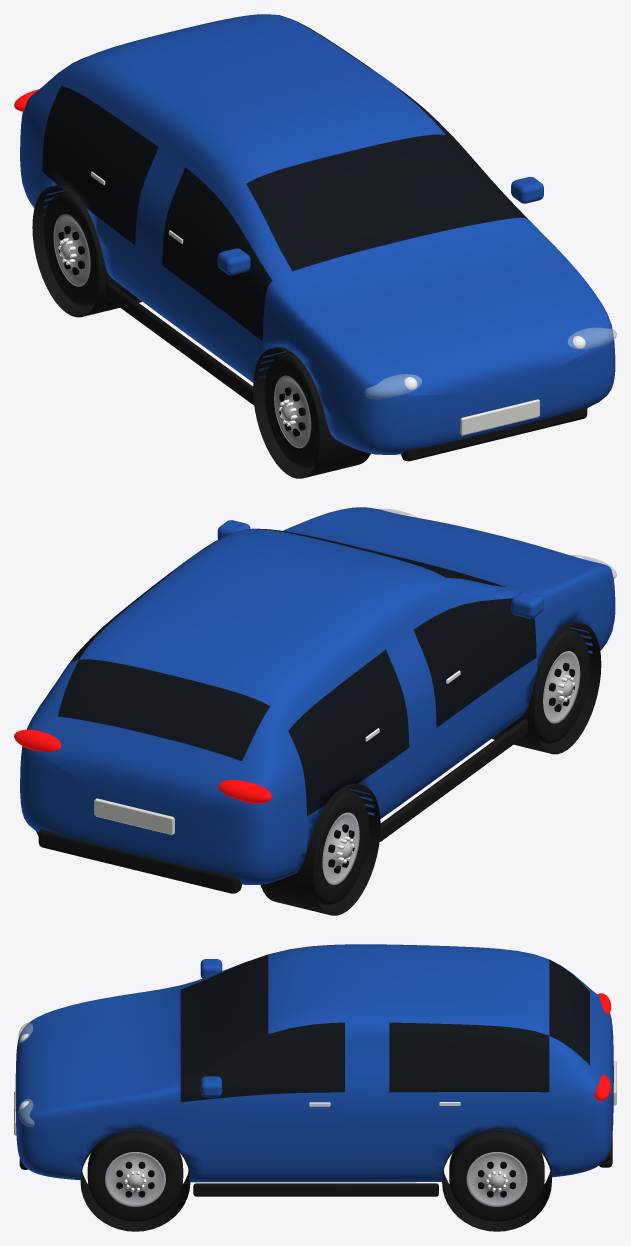
The model's file is car.glb.
3 views of the same model, one above another, from view 1: azimuth 30°, elevation 25°; view 2: azimuth 150°, elevation 25°; view 3: azimuth 270°, elevation 25° (orthographic). The views are drawn at different scales.
Parts seen in each view (by area): view 1: body, liner-10.8, liner-13.3, sill-1, w-1r_tire0, w-1f_tire0, lowgrille, w-1f_rim, w-1r_rim, plate_f, hl-1, hl1 (+2 smaller); view 2: body, liner-13.3, rear_diff, liner-10.8, sill-1, w-1r_tire0, w-1f_tire0, w-1r_rim, w-1f_rim, plate_r, tl-1, tl1 (+1 smaller); view 3: body, w1f_tire0, w1r_tire0, sill1, w1f_rim, w1r_rim, liner13.3, liner10.8, mirror1.
Part boxes in pixels (x1,y1,x2,y2): body: (20,14,615,454); liner-10.8: (253,347,370,478); liner-13.3: (32,185,141,317); sill-1: (105,282,253,405); w-1r_tire0: (43,192,99,306); w-1f_tire0: (264,353,319,467); lowgrille: (401,406,587,461); w-1f_rim: (274,375,311,448); w-1r_rim: (53,214,90,286); plate_f: (459,399,539,435); hl-1: (364,374,421,398); hl1: (568,328,616,349); body: (20,507,615,884); liner-13.3: (260,783,380,915); rear_diff: (38,829,241,893); liner-10.8: (492,622,601,754); sill-1: (379,719,527,841); w-1r_tire0: (313,790,369,904); w-1f_tire0: (534,629,589,743); w-1r_rim: (322,812,359,885); w-1f_rim: (543,651,580,723); plate_r: (94,798,174,834); tl-1: (218,780,271,803); tl1: (14,729,61,751); body: (15,944,613,1182); w1f_tire0: (87,1132,183,1221); w1r_tire0: (449,1132,544,1221); sill1: (193,1183,438,1196); w1f_rim: (105,1152,165,1206); w1r_rim: (466,1152,527,1206); liner13.3: (442,1129,551,1231); liner10.8: (80,1130,190,1231); mirror1: (200,1076,222,1097).
Size of the model in its own units: 2.08 by 1.52 by 4.17.
